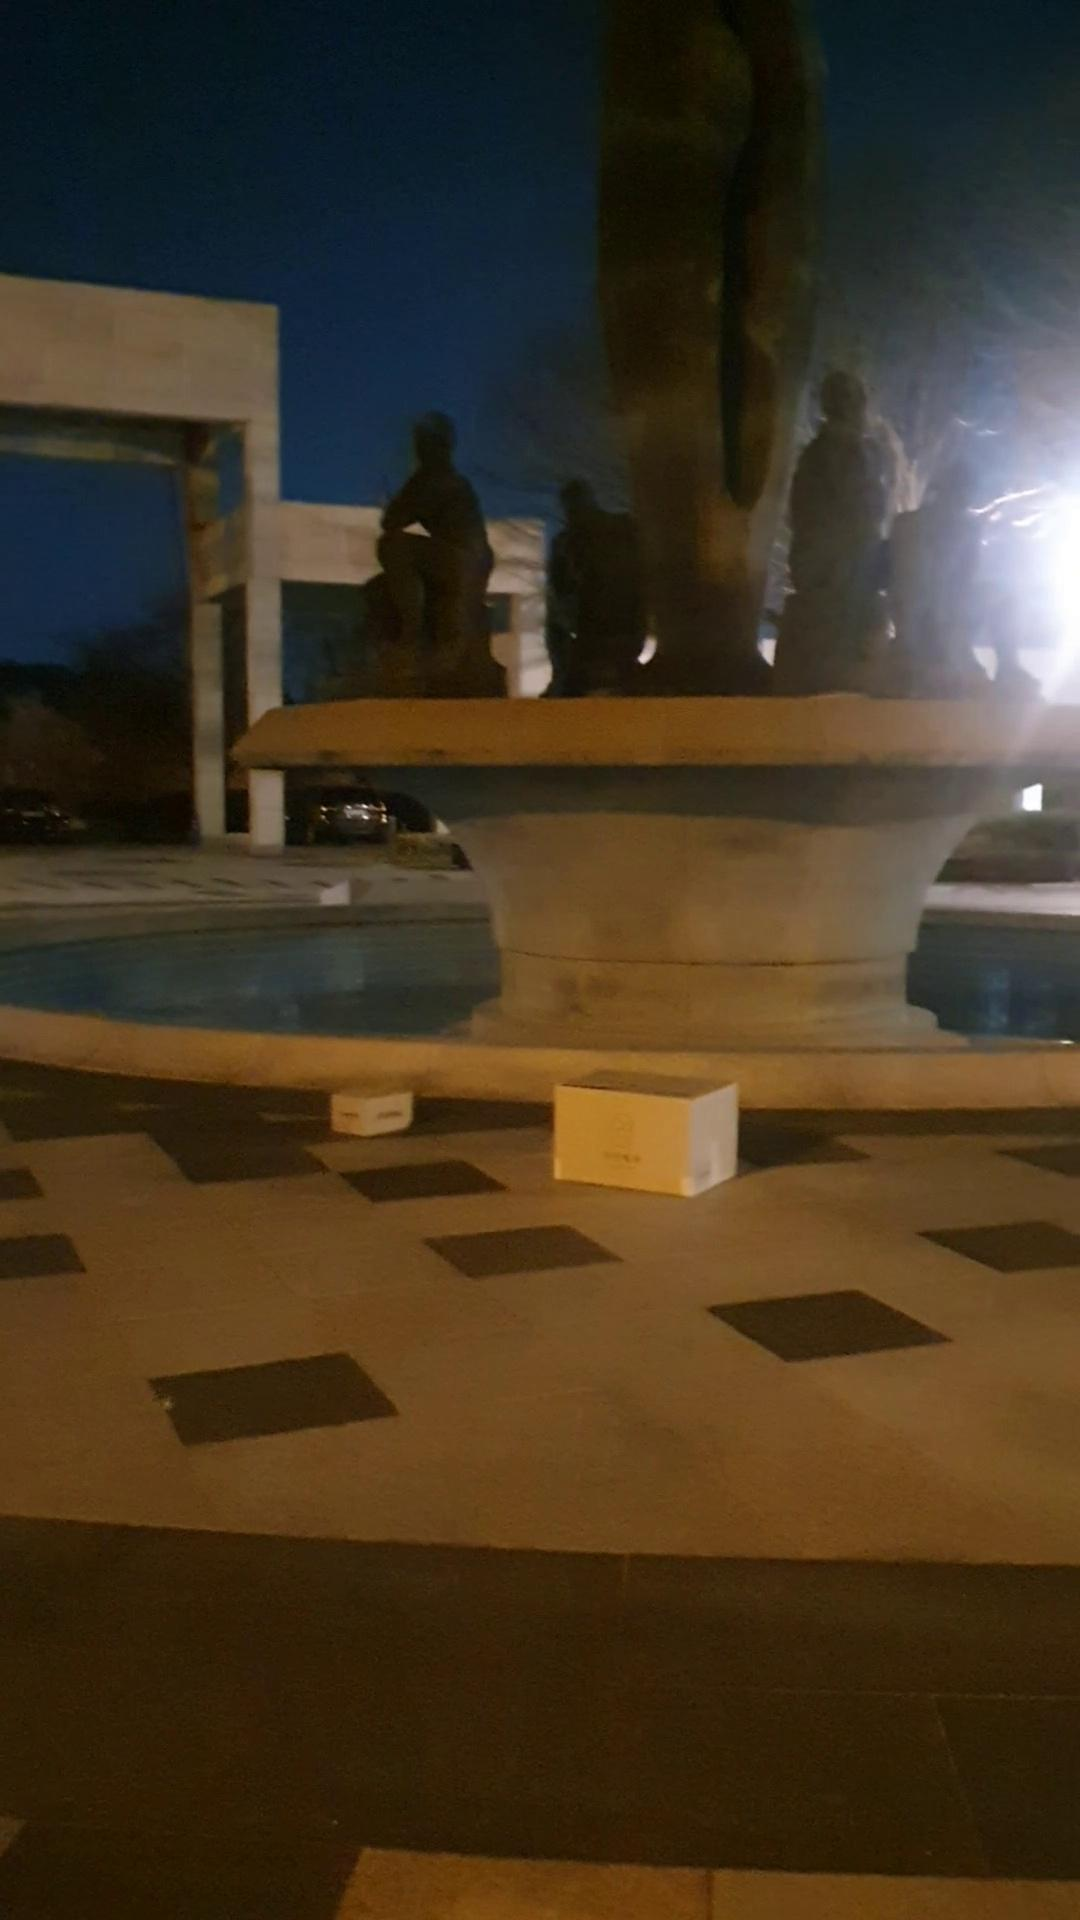Box: (543, 1060, 754, 1207), (320, 1060, 423, 1145)
